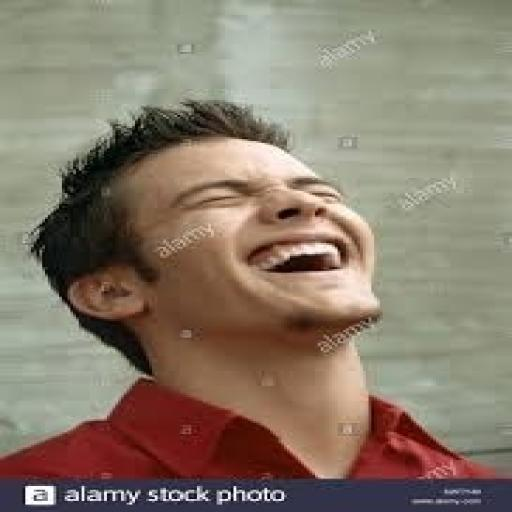laughing: (3, 92, 501, 478)
